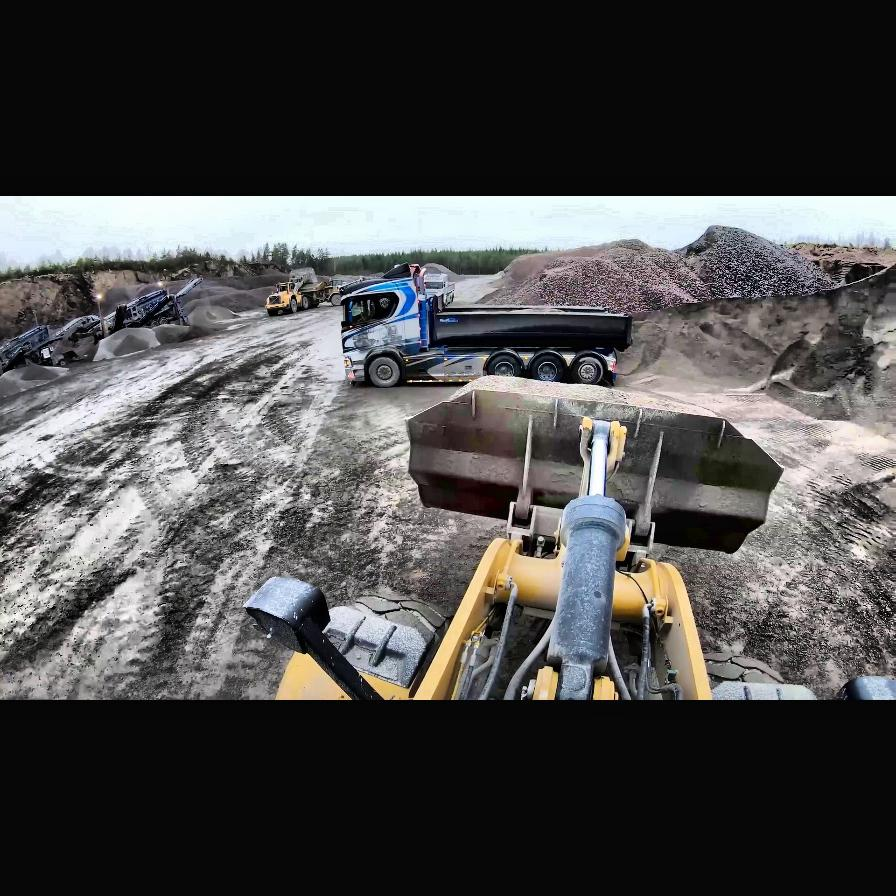anchor: (580, 417, 628, 495)
pile of gravel: (612, 242, 895, 430), (514, 225, 884, 315), (524, 241, 704, 311), (90, 324, 192, 360), (0, 366, 68, 396), (416, 262, 462, 284), (187, 306, 243, 324)
